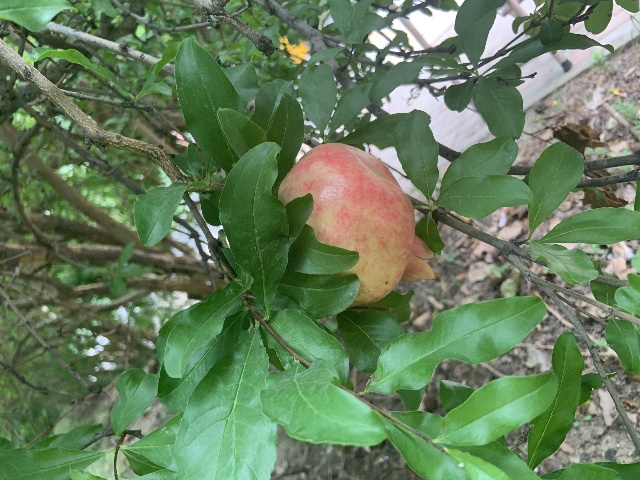ripe: (277, 143, 434, 306)
